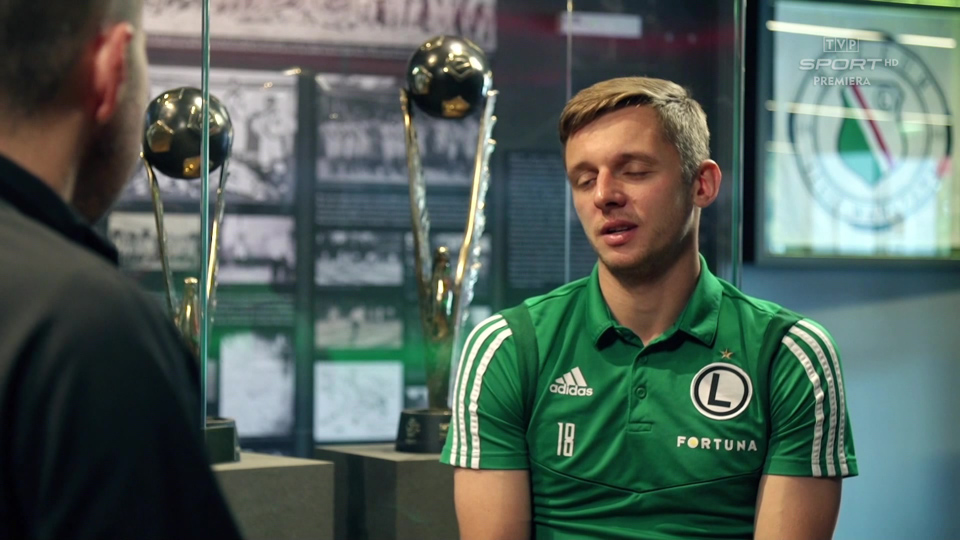Adidas: (546, 364, 594, 397)
